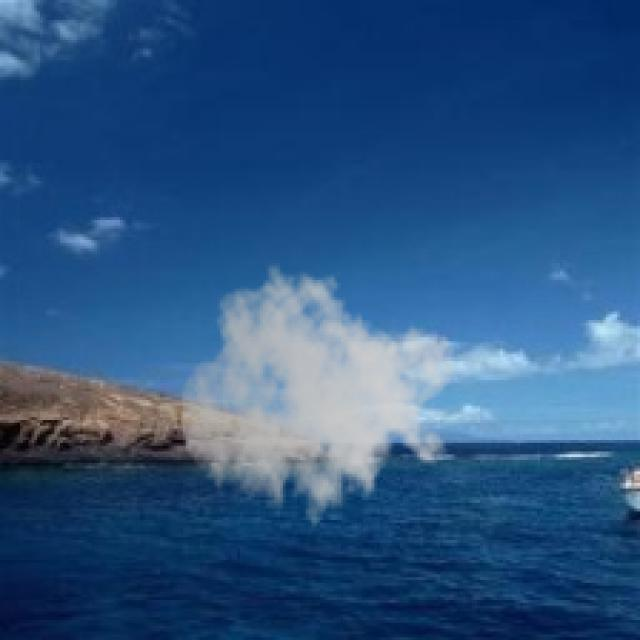Smoke: (177, 263, 457, 543)
